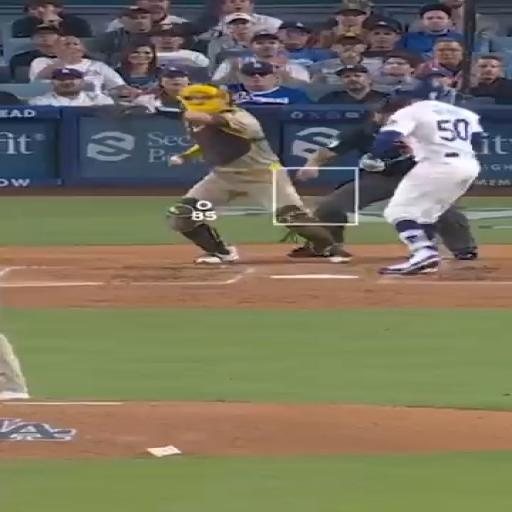bat: (384, 153, 417, 163)
